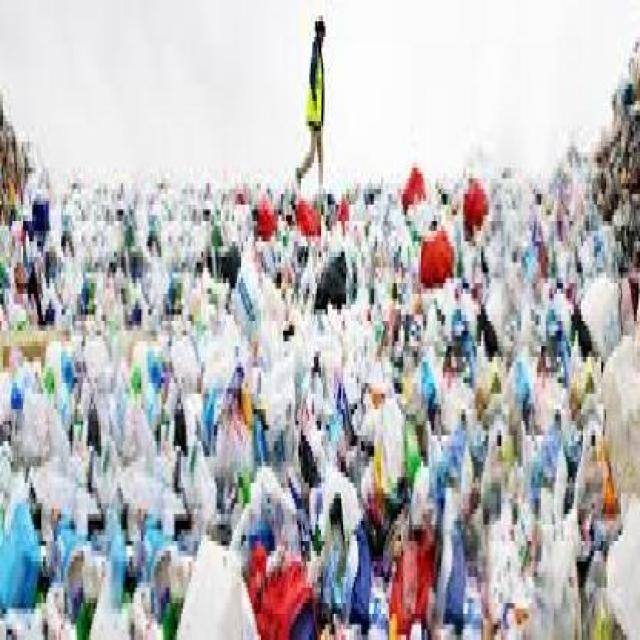garbage: (0, 184, 638, 635), (0, 95, 49, 248), (602, 22, 639, 206)
